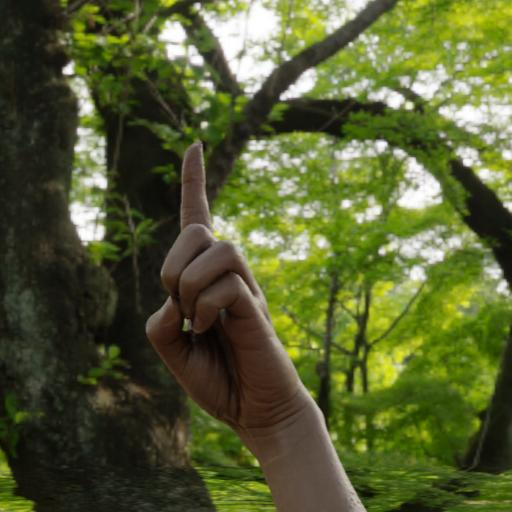D: (135, 130, 341, 512)
